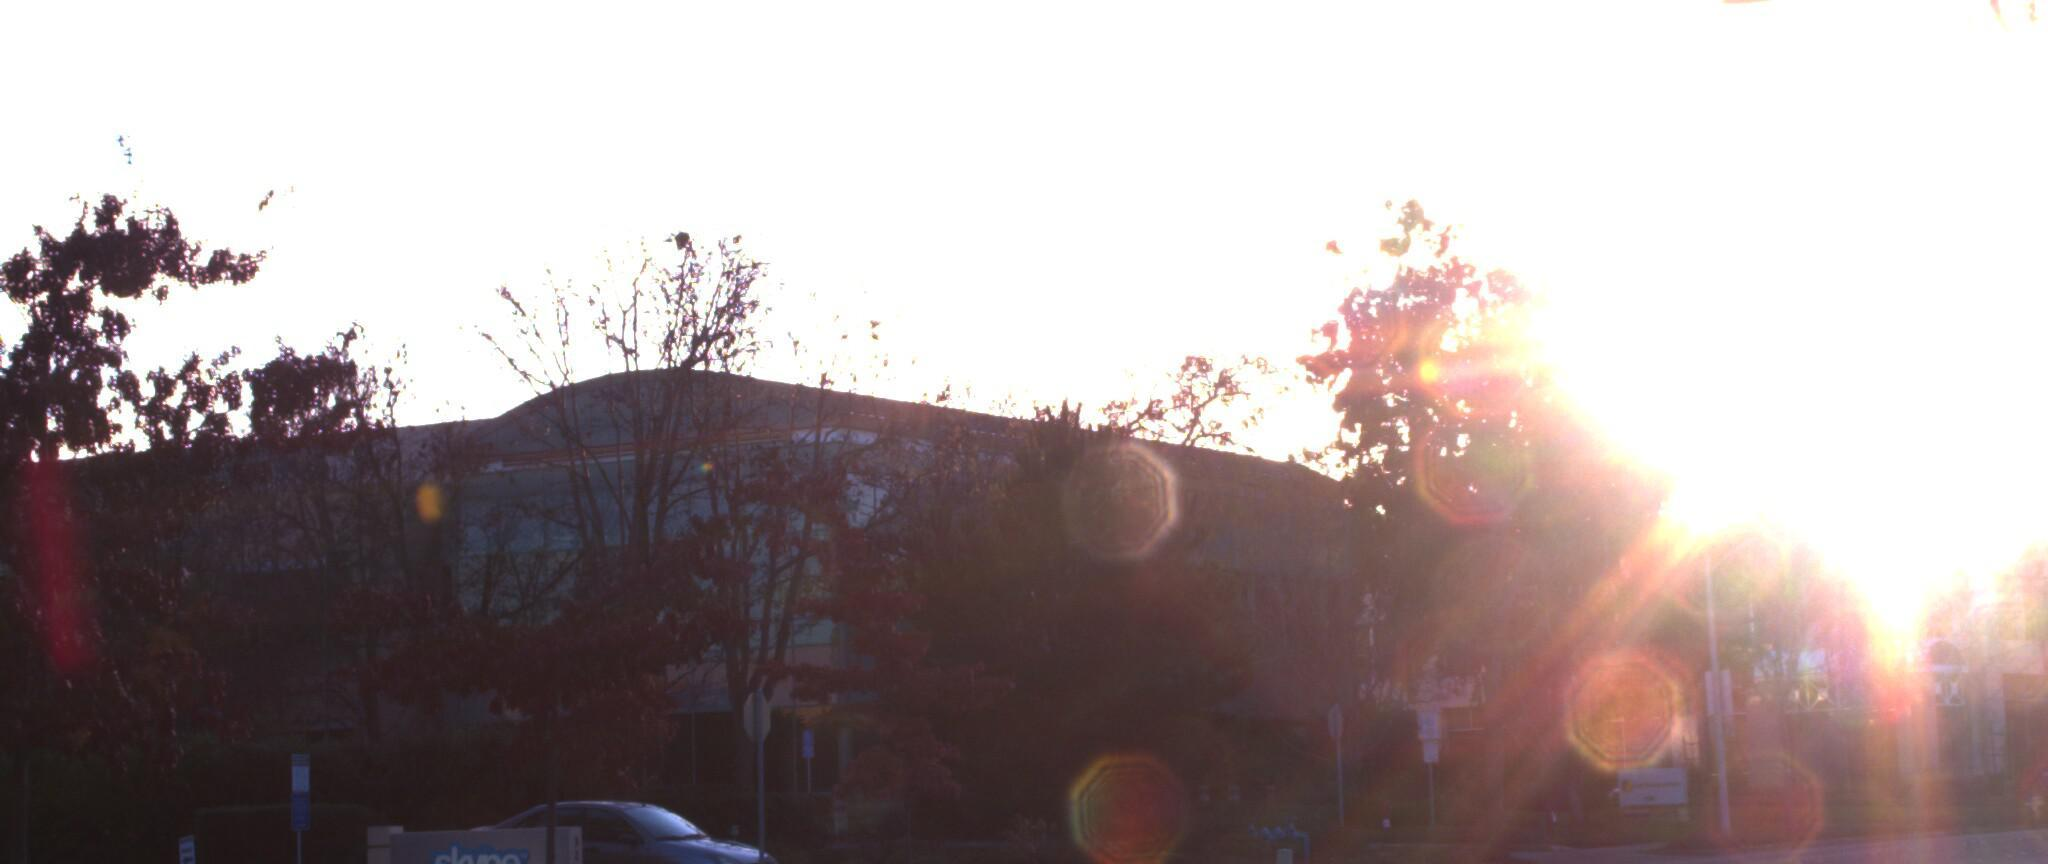car: (445, 769, 798, 864)
